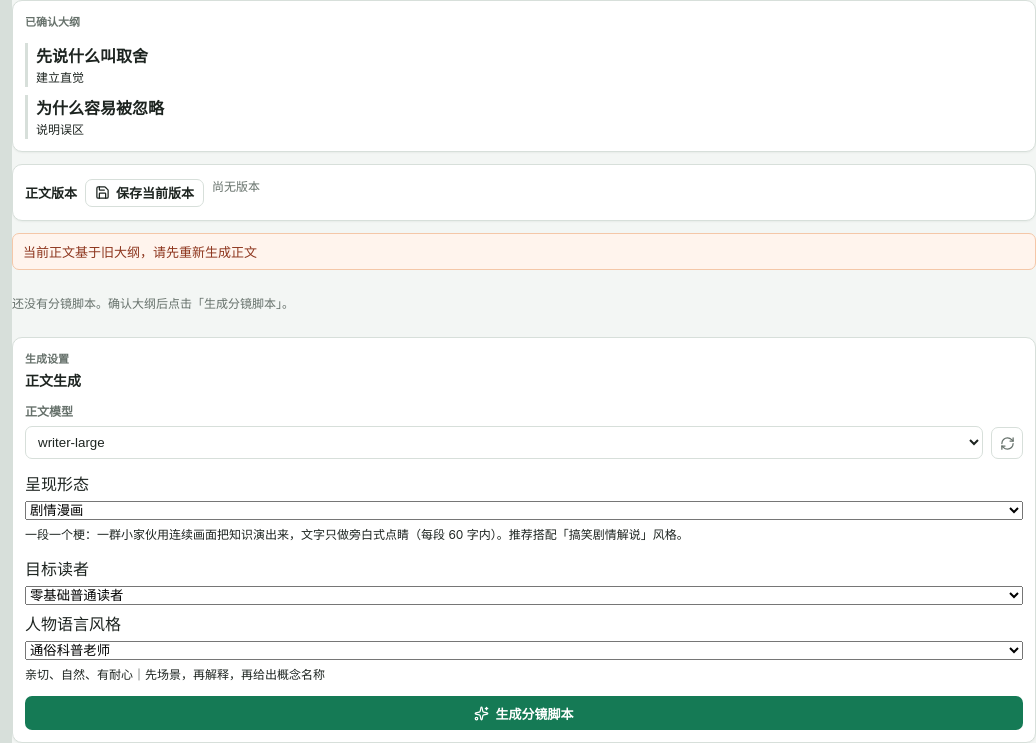
Scenario: ContentWorkspace › generates the full article with the selected model and style
The width and height of the screenshot is (1036, 743).
Select "writer-small" in the dropdown labelled "正文模型" at (504, 443), box x1=25 y1=426 x2=983 y2=459
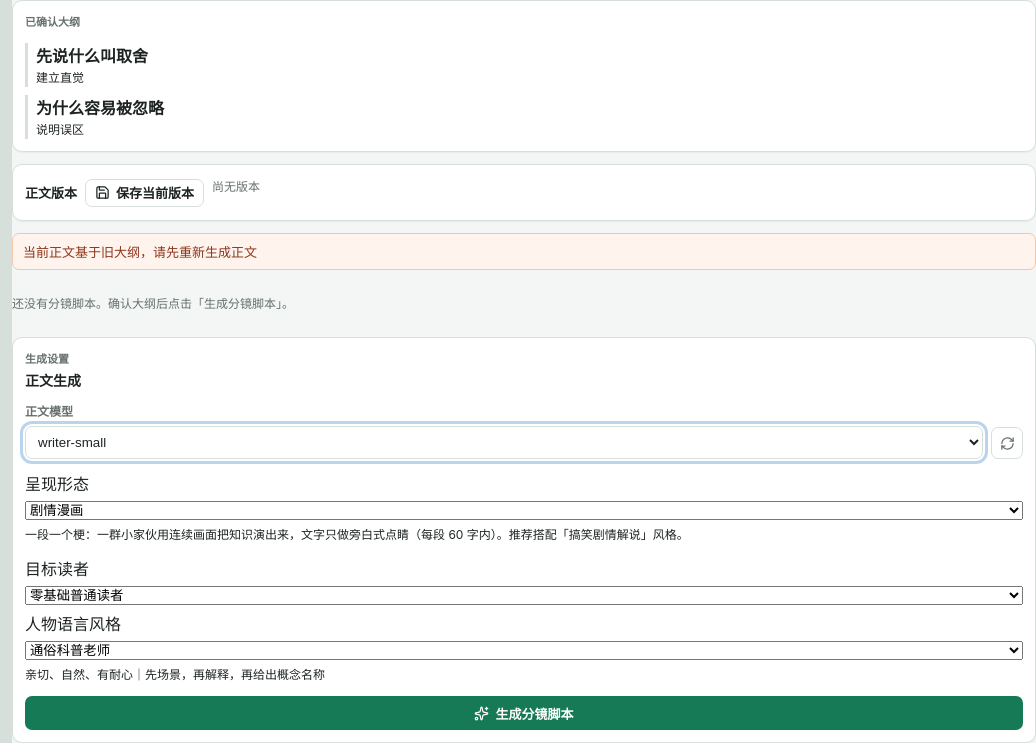
Select "朋友聊天式" in the dropdown labelled "人物语言风格" at (524, 651), box x1=25 y1=641 x2=1023 y2=660
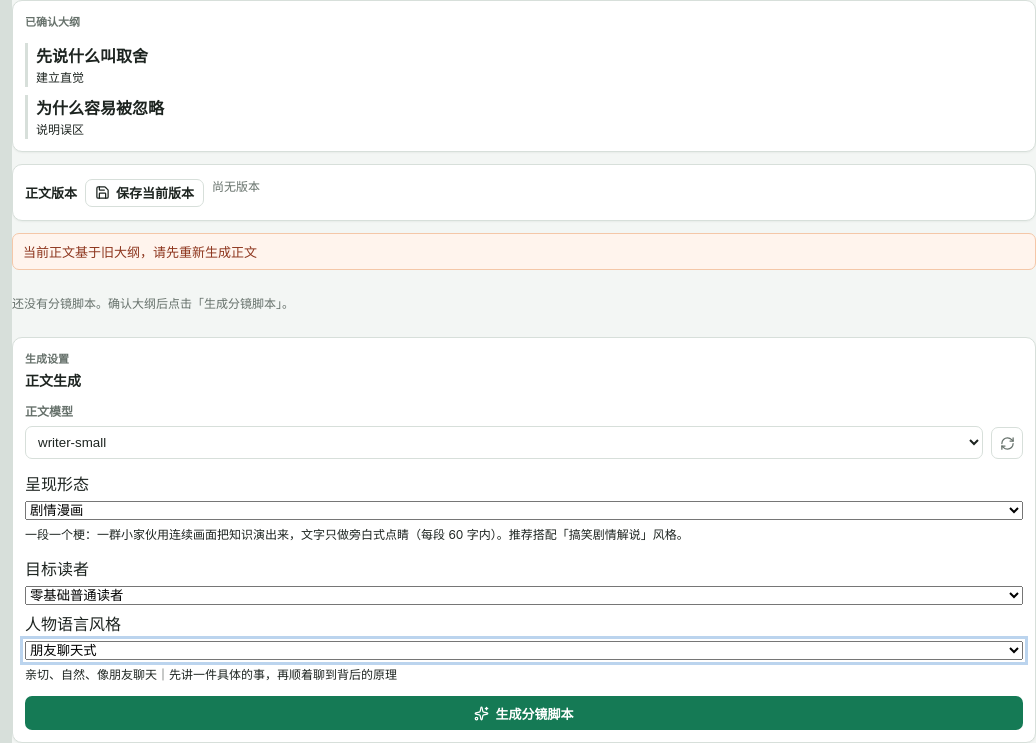
Click the button "生成分镜脚本".
click(524, 713)  # box x1=25 y1=696 x2=1023 y2=730
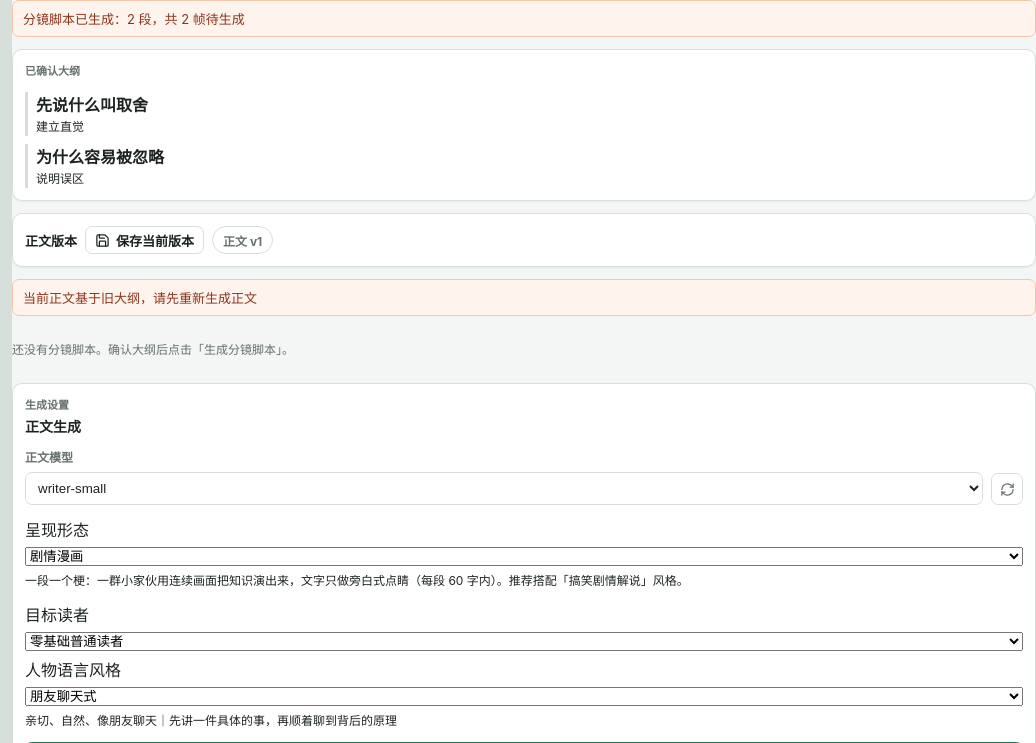
Check: the text "分镜脚本已生成：2 段，共 2 帧待生成" is shown, box x1=12 y1=0 x2=1035 y2=37
